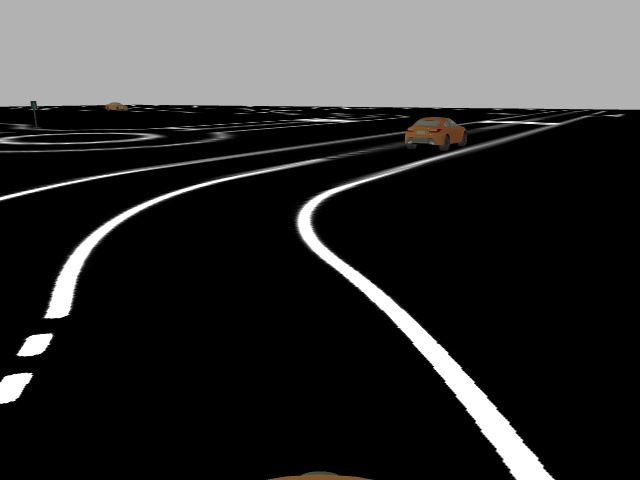obstacle_car: (402, 116, 471, 150)
